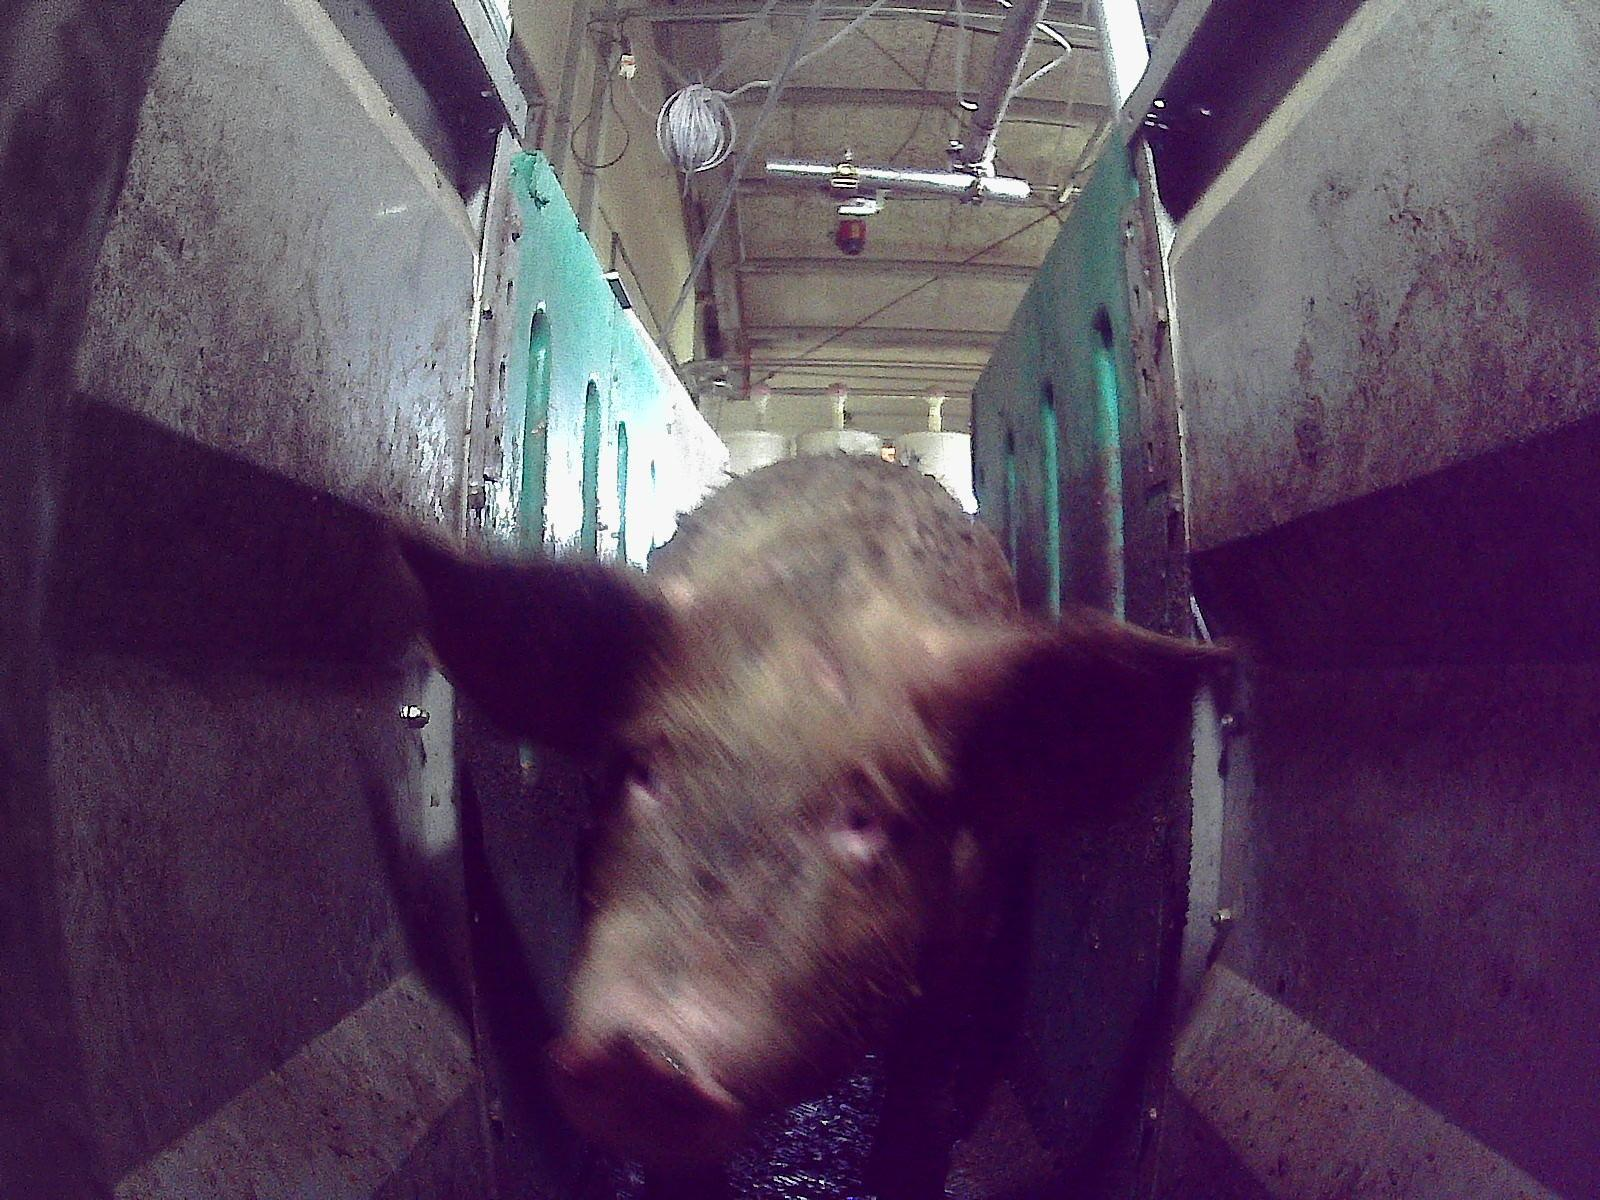Face: (548, 588, 970, 1165)
